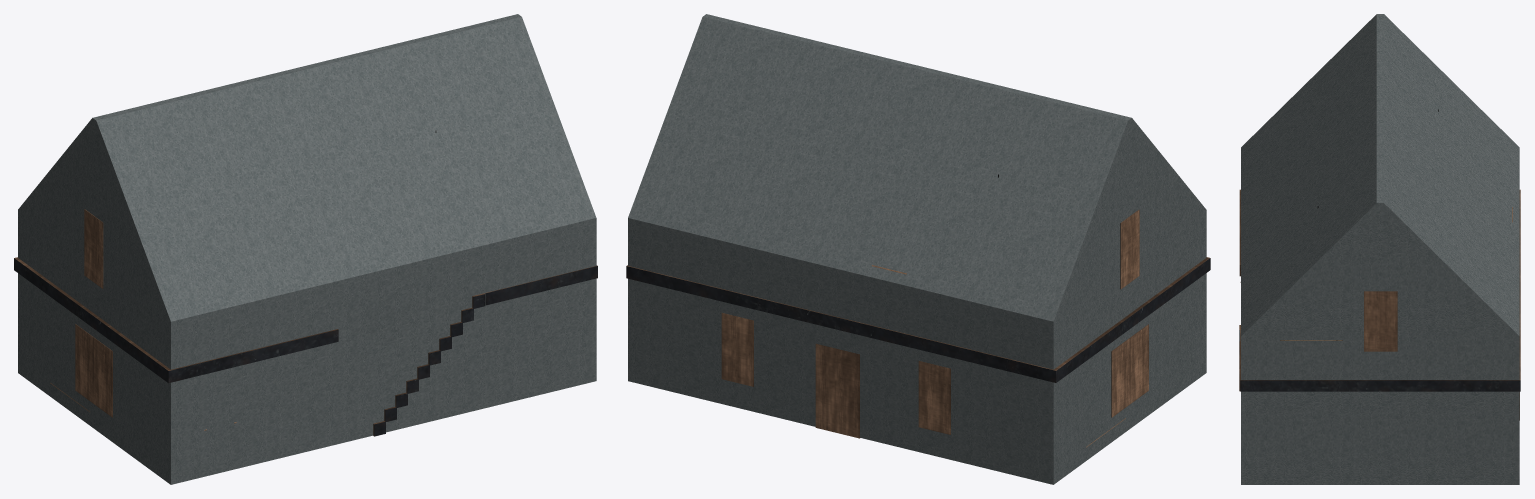
File: house_inside5.fbx
3 renders of one model, left to right at view 1: azimuth 30°, elevation 25°; view 2: azimuth 150°, elevation 25°; view 3: azimuth 270°, elevation 25°, orthographic. The views are drawn at different scales.
Parts seen in each view (by area): view 1: house5; view 2: house5; view 3: house5.
Boxes of the visible parts, x1,y1,x2,y2 form: house5: [14, 14, 597, 484]; house5: [626, 14, 1210, 484]; house5: [1239, 14, 1520, 484].
Bounding box in the file's own units: 2327 × 1608 × 1450.
